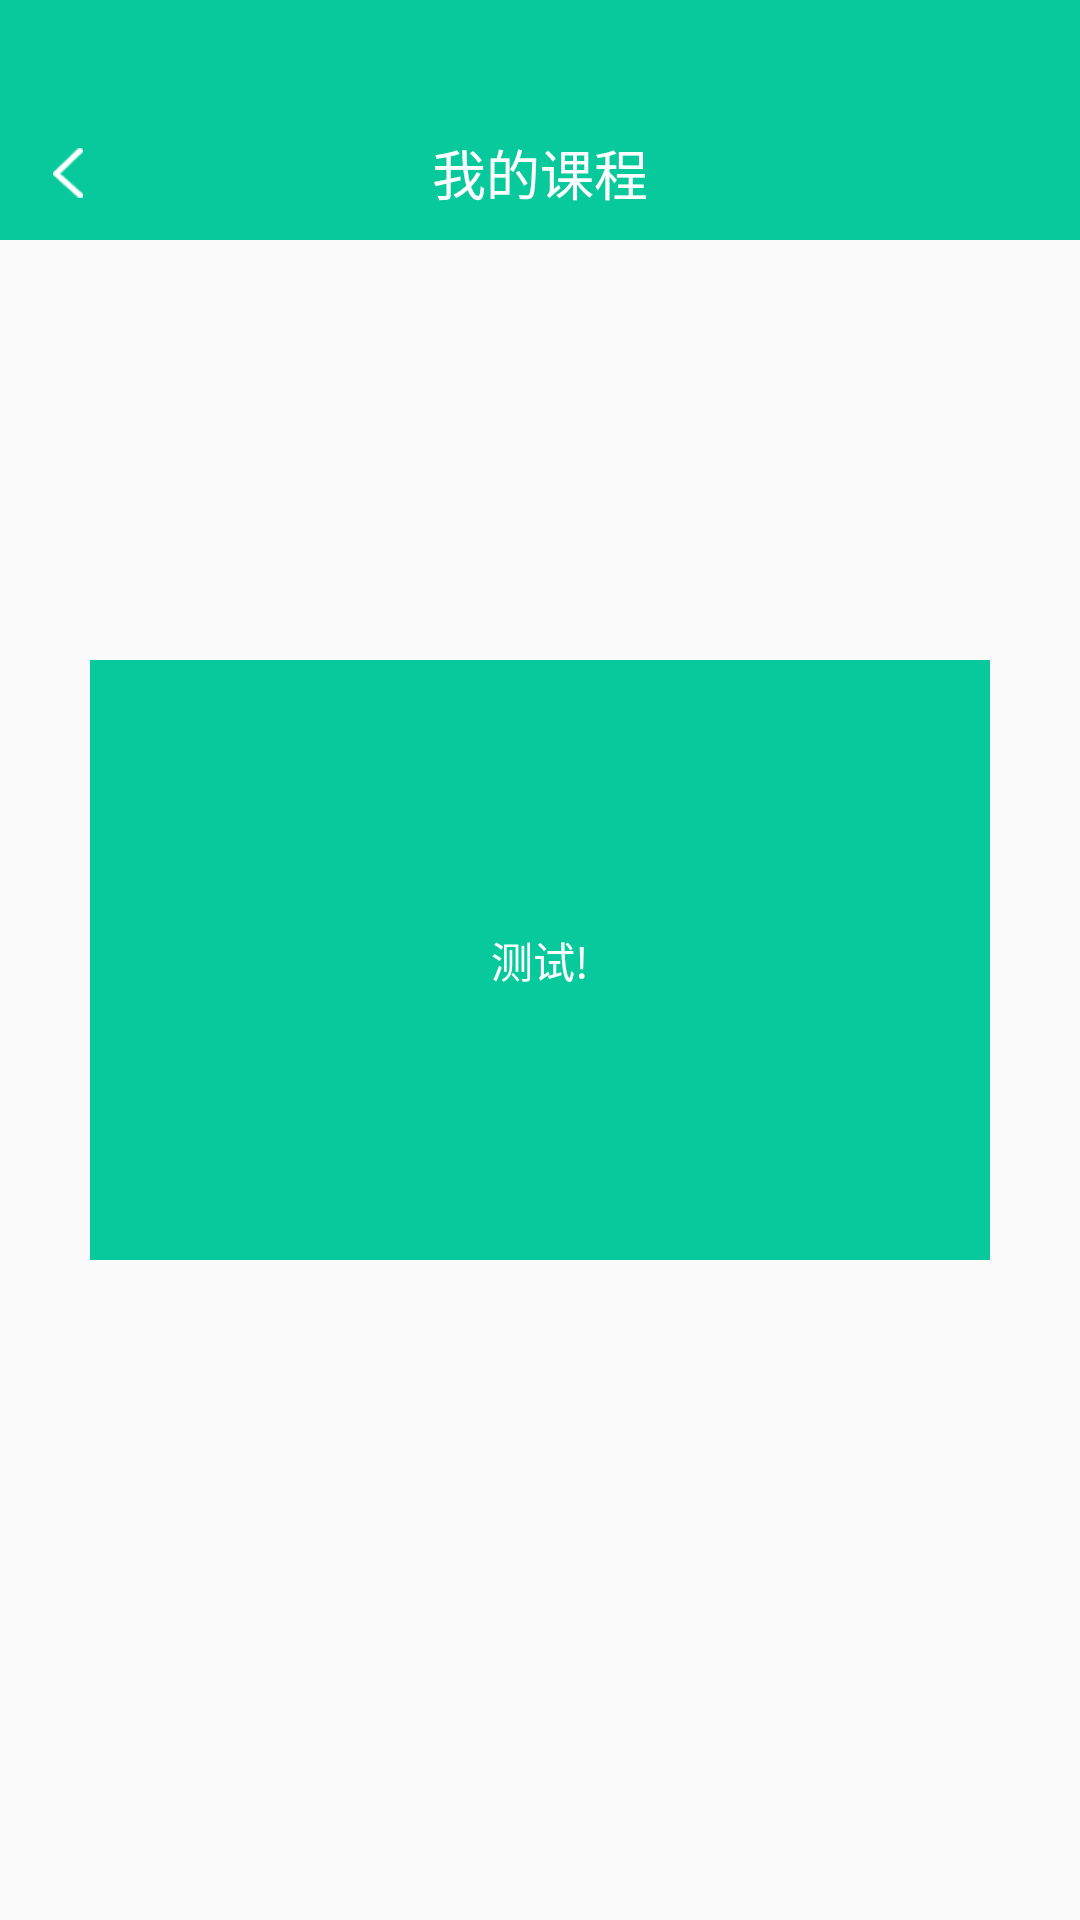

Point at icon controls on the screen. Image size 1080 × 1920, points as point (x, y).
back: point (68, 173)
